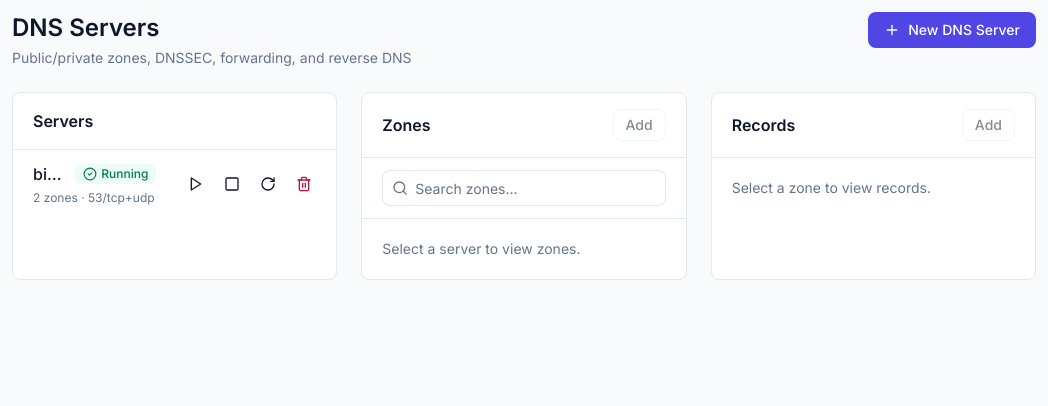
Scenario: DNS Management page › zone search filters the zones list
Select server to load zones.
Click the text "bind-primary" at (50, 174), box left=33, top=162, right=67, bottom=186
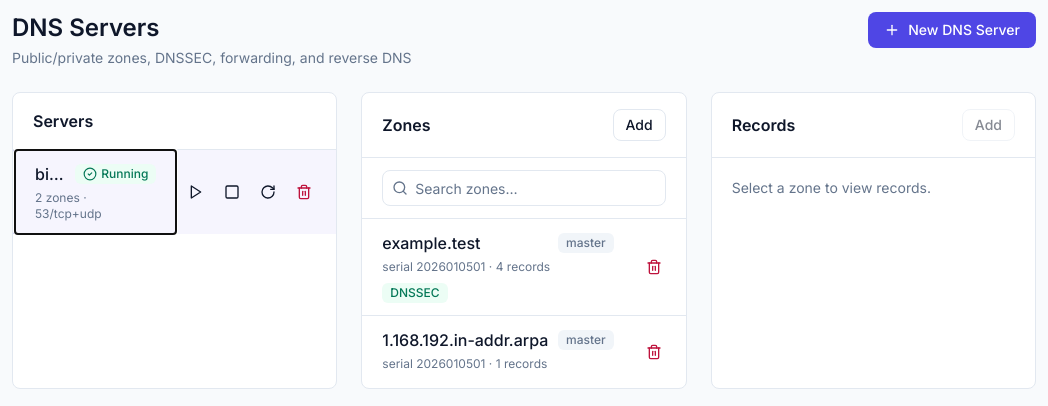
Expected: the text "example.test" is shown, left=382, top=231, right=480, bottom=255
Expected: the text "1.168.192.in-addr.arpa" is shown, left=382, top=328, right=548, bottom=352
Type into the zone search.
Type "example" into the field with placeholder "Search zones…" at (524, 188), box left=382, top=170, right=666, bottom=206
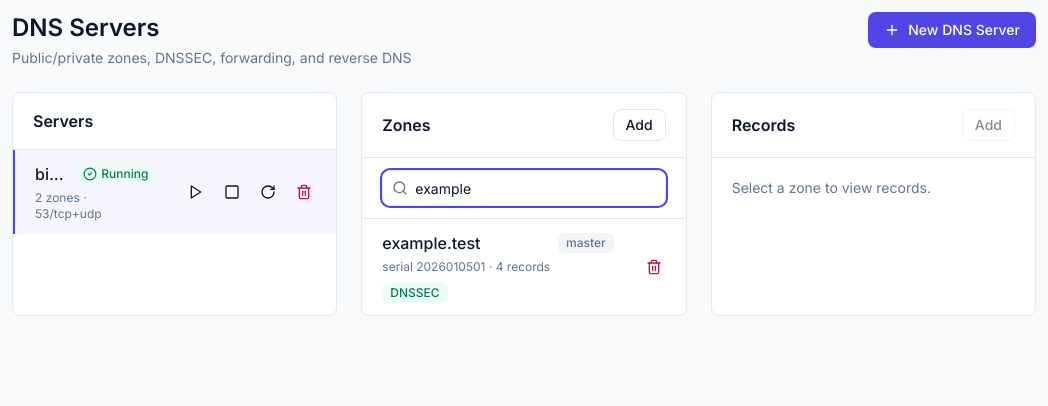
Expected: the text "example.test" is shown, left=382, top=231, right=480, bottom=255
Expected: the button "1.168.192.in-addr.arpa" is gone
